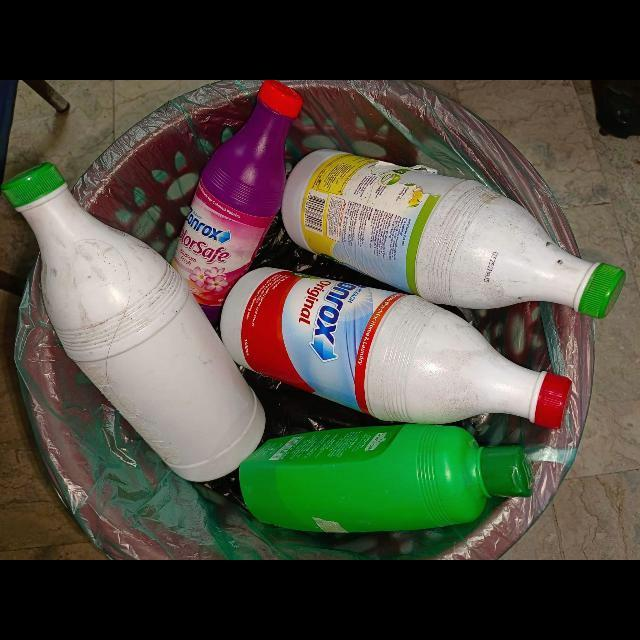plastic_bottle: (1, 162, 267, 484), (281, 150, 627, 319), (221, 268, 574, 430), (171, 80, 303, 330), (238, 424, 533, 533)
